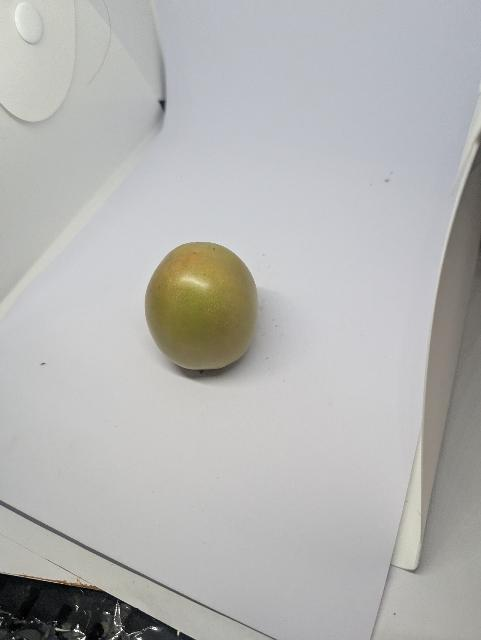breaker: (142, 242, 263, 375)
